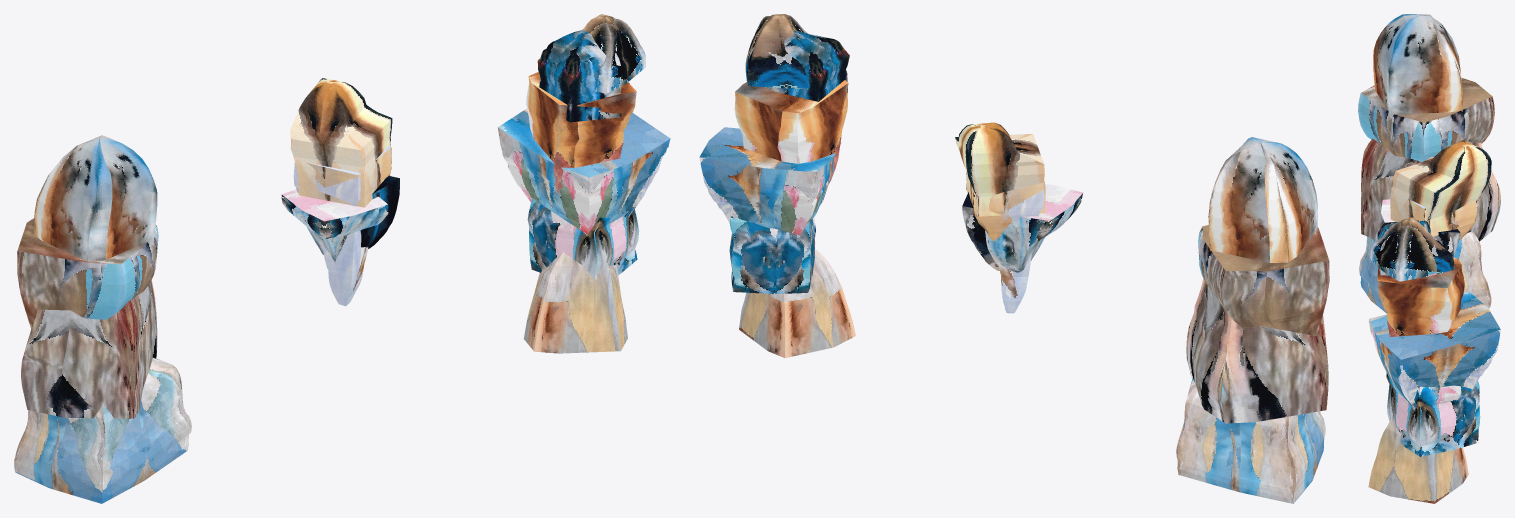
3 renders of one model, left to right at view 1: azimuth 30°, elevation 25°; view 2: azimuth 150°, elevation 25°; view 3: azimuth 270°, elevation 25°, orthographic. The views are drawn at different scales.
Visible parts, largest first — view 1: SPLICE_2 (×6), SPLICE_1 (×6), SPLICE_3 (×2); view 2: SPLICE_2 (×6), SPLICE_1 (×6), SPLICE_3 (×2); view 3: SPLICE_2 (×6), SPLICE_1 (×6), SPLICE_3 (×2).
Boxes of the visible parts, <box> form: SPLICE_2 (×6): <box>14,78,639,503</box>; SPLICE_1 (×6): <box>293,14,670,353</box>; SPLICE_3 (×2): <box>17,189,388,329</box>; SPLICE_2 (×6): <box>729,122,1328,503</box>; SPLICE_1 (×6): <box>699,14,1043,357</box>; SPLICE_3 (×2): <box>985,184,1329,336</box>; SPLICE_2 (×6): <box>1359,14,1500,456</box>; SPLICE_1 (×6): <box>1368,187,1500,503</box>; SPLICE_3 (×2): <box>1358,77,1494,222</box>.
Bounding box in the file's own units: 8.94 × 4.6 × 2.02.
Materials: 14 (14 with a texture image).
